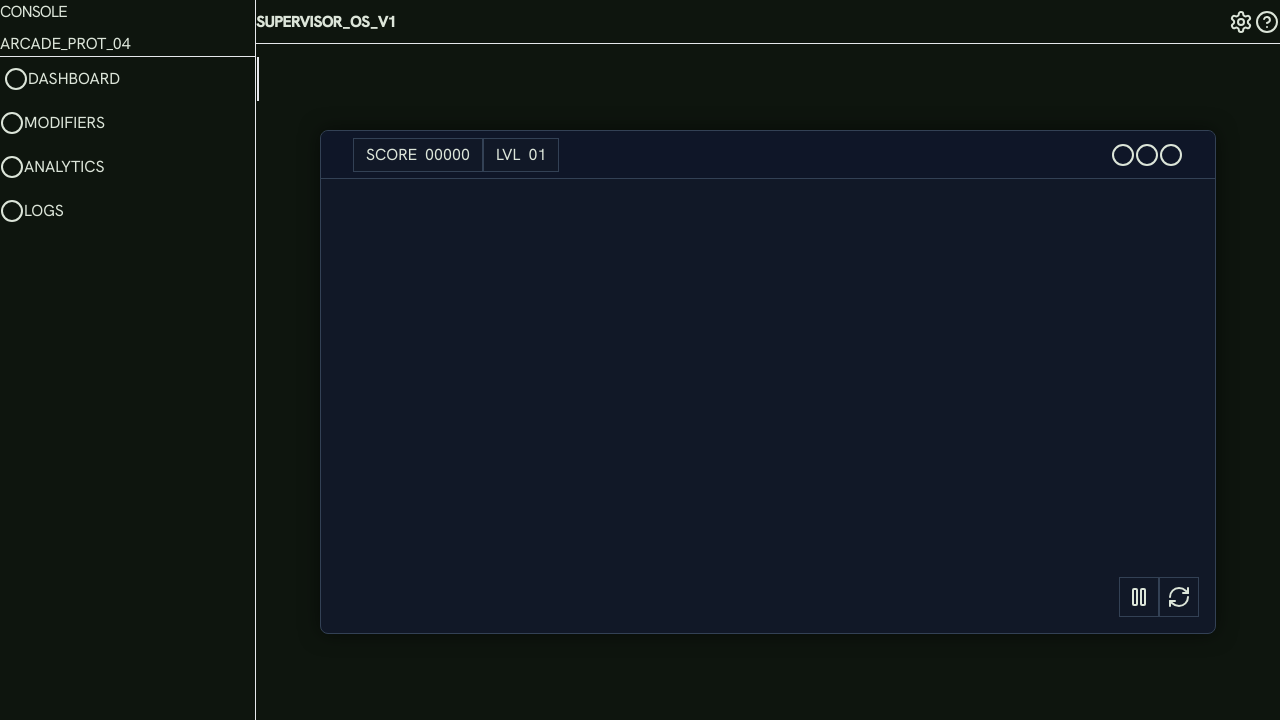
Scenario: App › switches to main menu from pause overlay
Press Escape
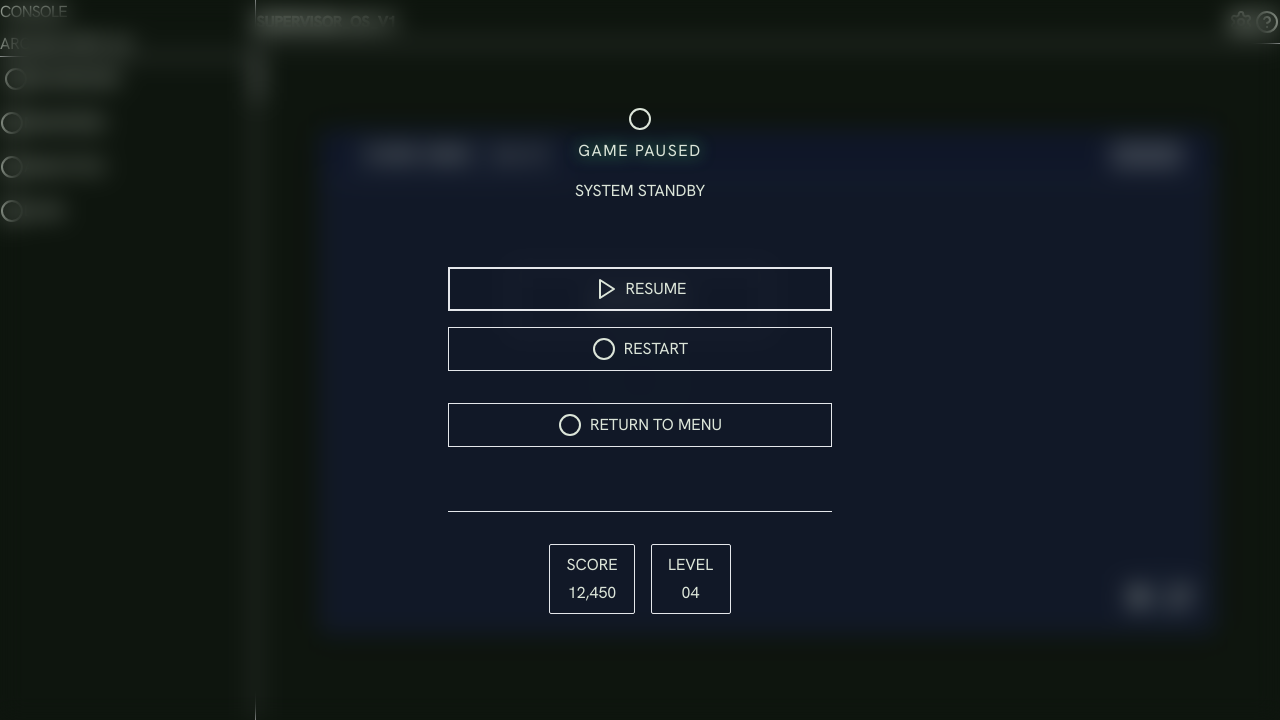
Click the button "RETURN TO MENU": (640, 424) [448,402,832,446]
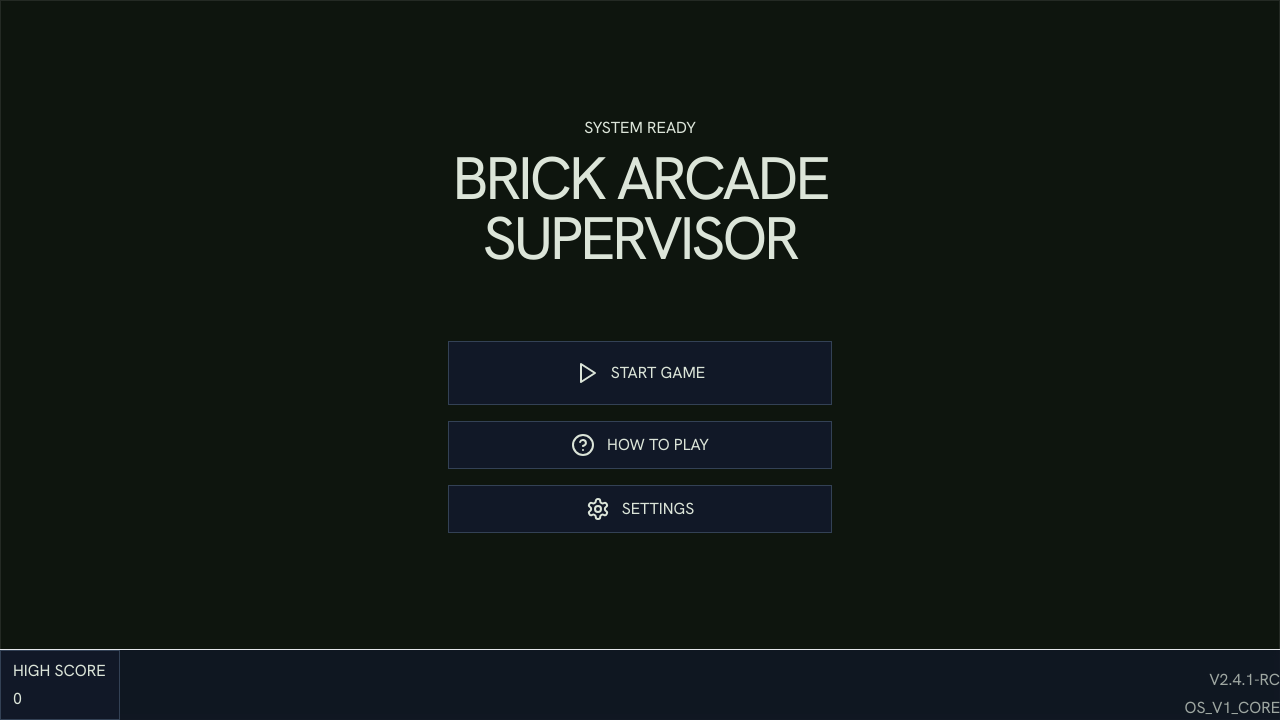
Expected: the text "START GAME" is shown, [611,361,705,385]
Expected: the heading "BRICK ARCADE SUPERVISOR" is shown, [452,139,828,277]
